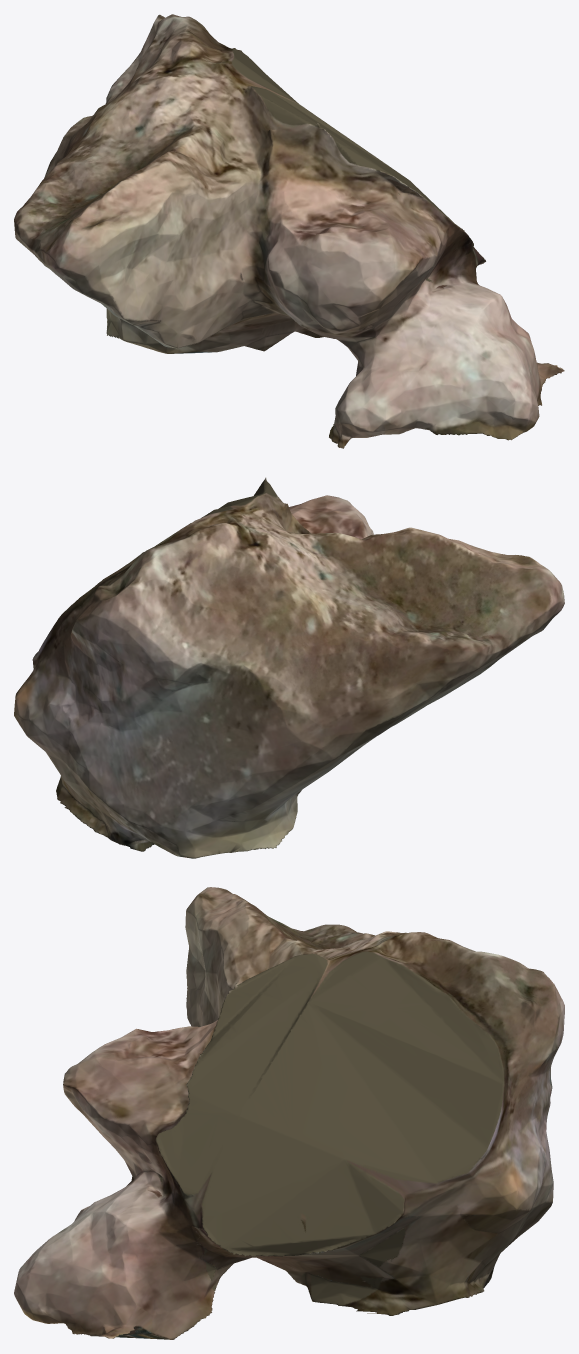
The model's file is FRAG-S1-FS-012.glb.
3 renders of one model, top to bottom at view 1: azimuth 30°, elevation 25°; view 2: azimuth 150°, elevation 25°; view 3: azimuth 270°, elevation 25°, orthographic. The views are drawn at different scales.
Parts seen in each view (by area): view 1: FRAG-S1-FS-012; view 2: FRAG-S1-FS-012; view 3: FRAG-S1-FS-012.
Boxes of the visible parts, x1,y1,x2,y2 form: FRAG-S1-FS-012: [14, 14, 564, 448]; FRAG-S1-FS-012: [14, 477, 564, 858]; FRAG-S1-FS-012: [14, 887, 564, 1339].
Size of the model in its own units: 0.7363 by 0.4608 by 0.7251.
Materials: 1 (1 with a texture image).
